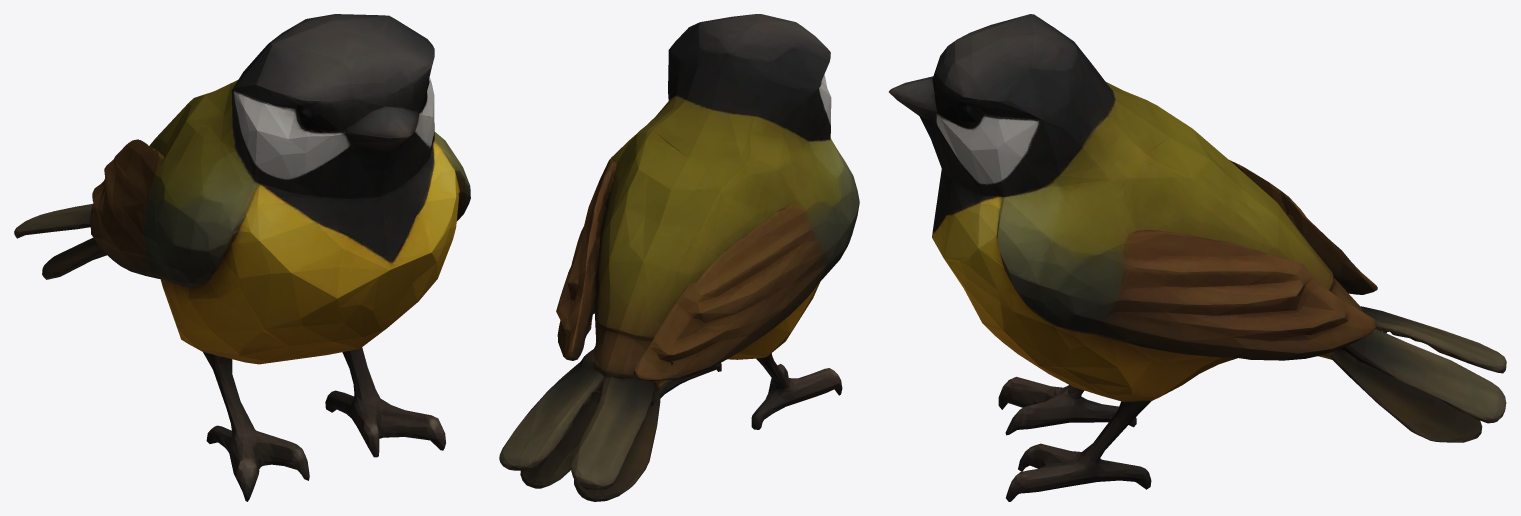
Rendered from bird.glb.
The picture shows the model from 3 angles, left to right: view 1: azimuth 30°, elevation 25°; view 2: azimuth 150°, elevation 25°; view 3: azimuth 270°, elevation 25°; orthographic projection. The views are drawn at different scales.
Parts seen in each view (by area): view 1: world; view 2: world; view 3: world.
Boxes of the visible parts, x1,y1,x2,y2 form: world: (14, 14, 470, 501); world: (499, 14, 859, 501); world: (889, 14, 1506, 501).
Bounding box in the file's own units: 0.5114 × 0.7586 × 0.997.
1 material, 1 textured.
